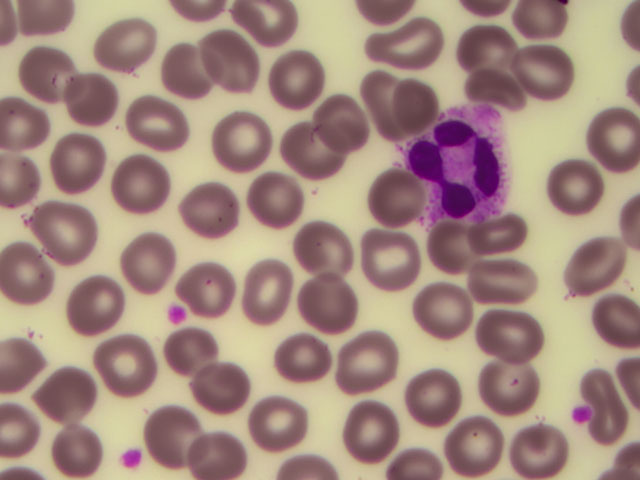Platelets: (163, 304, 194, 332), (118, 447, 145, 470), (568, 400, 591, 426)
RBC: (505, 421, 564, 480), (190, 421, 249, 480), (50, 421, 109, 480), (18, 44, 77, 102), (59, 67, 118, 125), (99, 16, 158, 74), (159, 41, 218, 99), (203, 29, 262, 87), (269, 50, 328, 108), (310, 96, 369, 154), (285, 132, 344, 190), (217, 113, 276, 171), (247, 168, 306, 226), (188, 178, 247, 236), (112, 154, 171, 212), (127, 95, 186, 153), (48, 137, 107, 195), (38, 201, 97, 259), (3, 96, 62, 154), (68, 274, 127, 332), (8, 243, 67, 301), (120, 234, 179, 292), (175, 256, 234, 314), (238, 256, 297, 314), (291, 217, 350, 275), (300, 276, 359, 334), (365, 232, 424, 290), (360, 173, 419, 231), (418, 216, 477, 274), (481, 196, 540, 254), (474, 254, 533, 312), (424, 276, 483, 334), (487, 302, 546, 360), (482, 356, 541, 414), (448, 418, 507, 476), (399, 369, 458, 427), (338, 398, 397, 456), (333, 332, 392, 390), (268, 327, 327, 385), (252, 390, 311, 448), (155, 400, 214, 458), (195, 352, 254, 410), (156, 322, 215, 380), (94, 335, 153, 393), (36, 373, 95, 431), (581, 373, 640, 431), (581, 293, 640, 351), (565, 240, 624, 298), (547, 162, 606, 220), (581, 109, 640, 167), (520, 46, 579, 104), (463, 56, 522, 114), (451, 17, 510, 75), (378, 18, 437, 76), (388, 65, 447, 123), (360, 63, 419, 121), (1, 156, 59, 214), (227, 1, 286, 58), (511, 1, 577, 46)
WBC: (413, 103, 515, 218)
